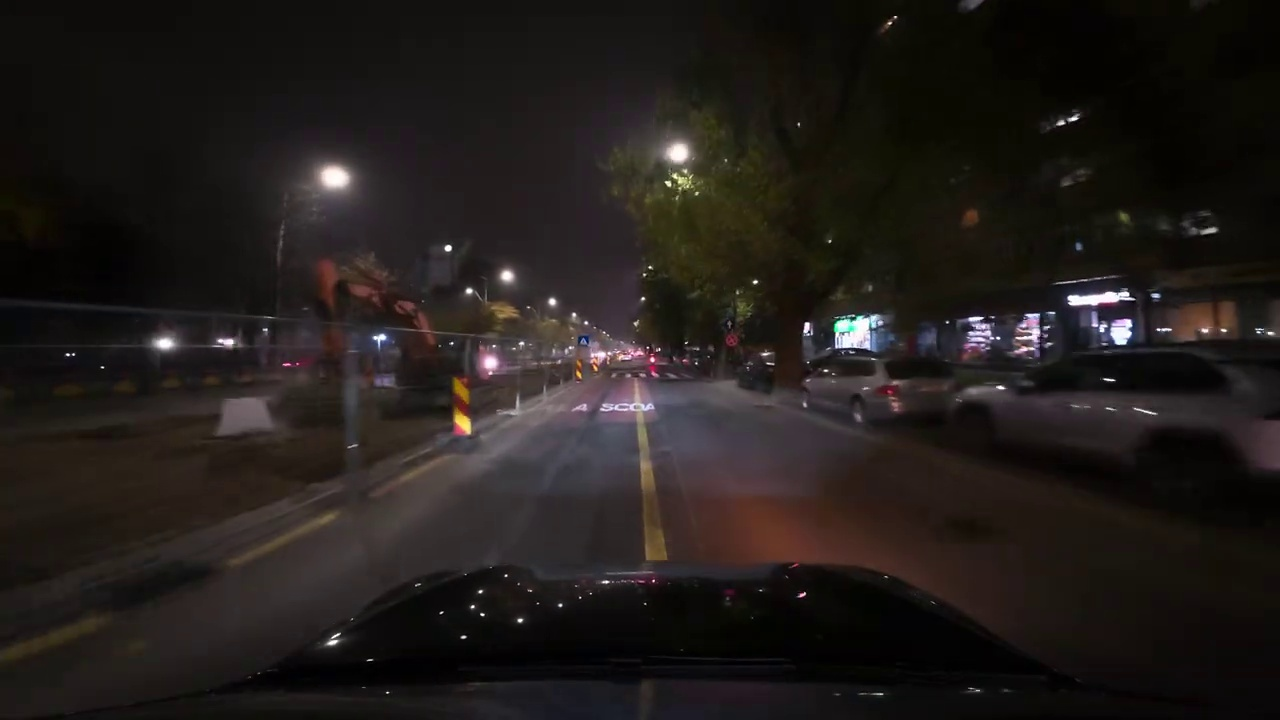acesa: (317, 162, 352, 193), (662, 140, 691, 167), (496, 265, 518, 288), (961, 207, 980, 229)
